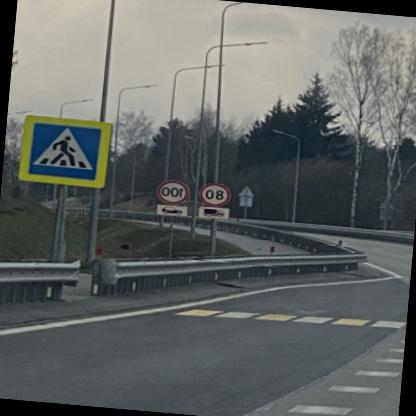crosswalk: (29, 120, 105, 180)
speedlimit: (158, 178, 192, 204), (202, 180, 234, 206)
